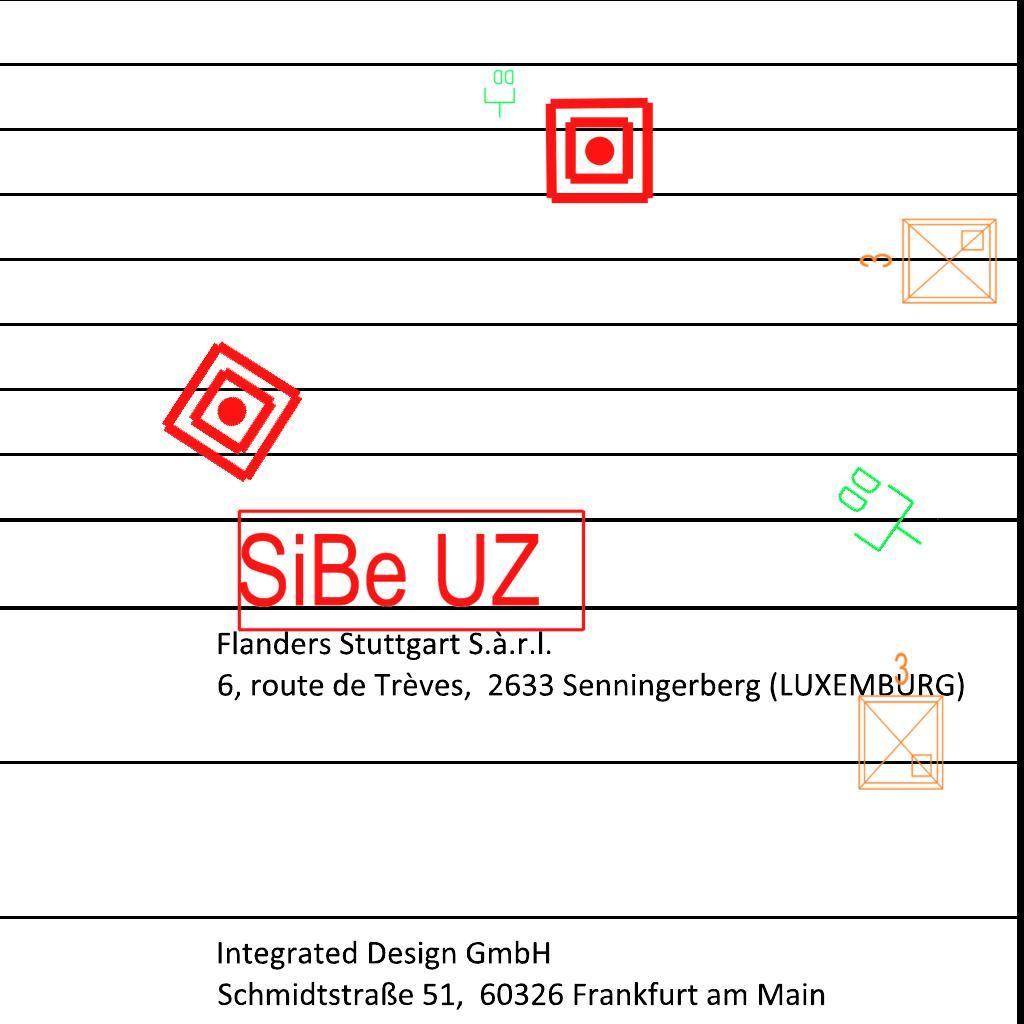Datenanschluss_zweifach: (819, 457, 944, 574), (483, 68, 517, 119)
Einbaudownlights_LED_Konferenzraeume: (847, 647, 951, 797), (854, 211, 1004, 315)
NAM-Nichtautomatischer_Melder: (154, 333, 311, 490), (543, 94, 656, 207)
Zentrale_Sicherheitsbeleuchtung: (234, 506, 591, 636)
